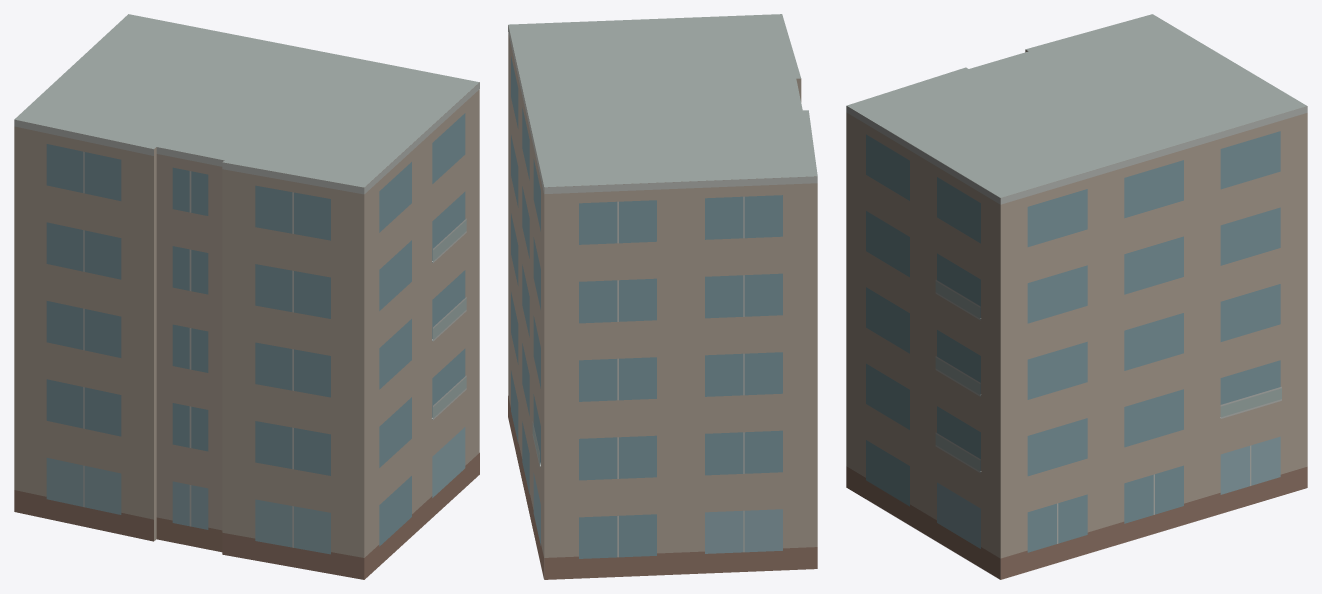
The model's file is survey-upis-32659257.glb.
The picture shows the model from 3 angles, left to right: view 1: azimuth 30°, elevation 25°; view 2: azimuth 150°, elevation 25°; view 3: azimuth 270°, elevation 25°; orthographic projection. The views are drawn at different scales.
Visible parts, largest first — view 1: survey-upis-32659257.tmp; view 2: survey-upis-32659257.tmp; view 3: survey-upis-32659257.tmp.
Boxes of the visible parts, x1,y1,x2,y2 form: survey-upis-32659257.tmp: (14,14,479,579); survey-upis-32659257.tmp: (508,14,817,579); survey-upis-32659257.tmp: (846,14,1307,579).
Size of the model in its own units: 14.37 by 13.9 by 15.22.
